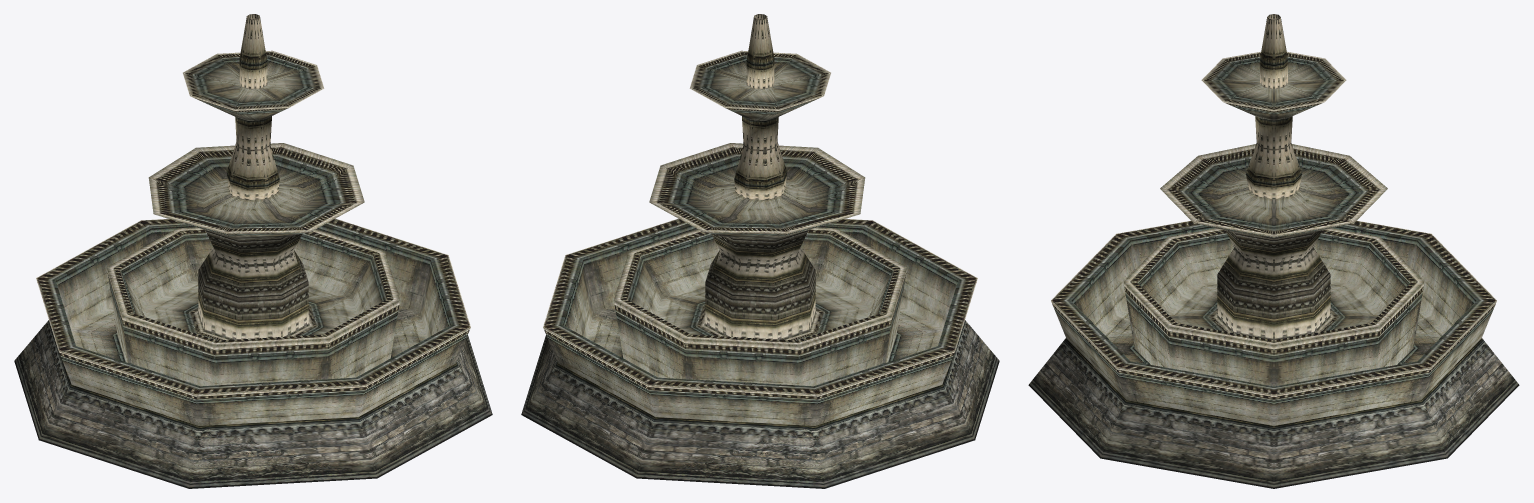
Rendered from Y_penquan.fbx.
3 renders of one model, left to right at view 1: azimuth 30°, elevation 25°; view 2: azimuth 150°, elevation 25°; view 3: azimuth 270°, elevation 25°, orthographic.
Parts seen in each view (by area): view 1: polySurface1; view 2: polySurface1; view 3: polySurface1.
Boxes of the visible parts, x1=… form: polySurface1: x1=14, y1=14, x2=492, y2=488; polySurface1: x1=521, y1=14, x2=999, y2=488; polySurface1: x1=1028, y1=14, x2=1519, y2=488.
Size of the model in its own units: 32.98 by 27.24 by 32.94.
